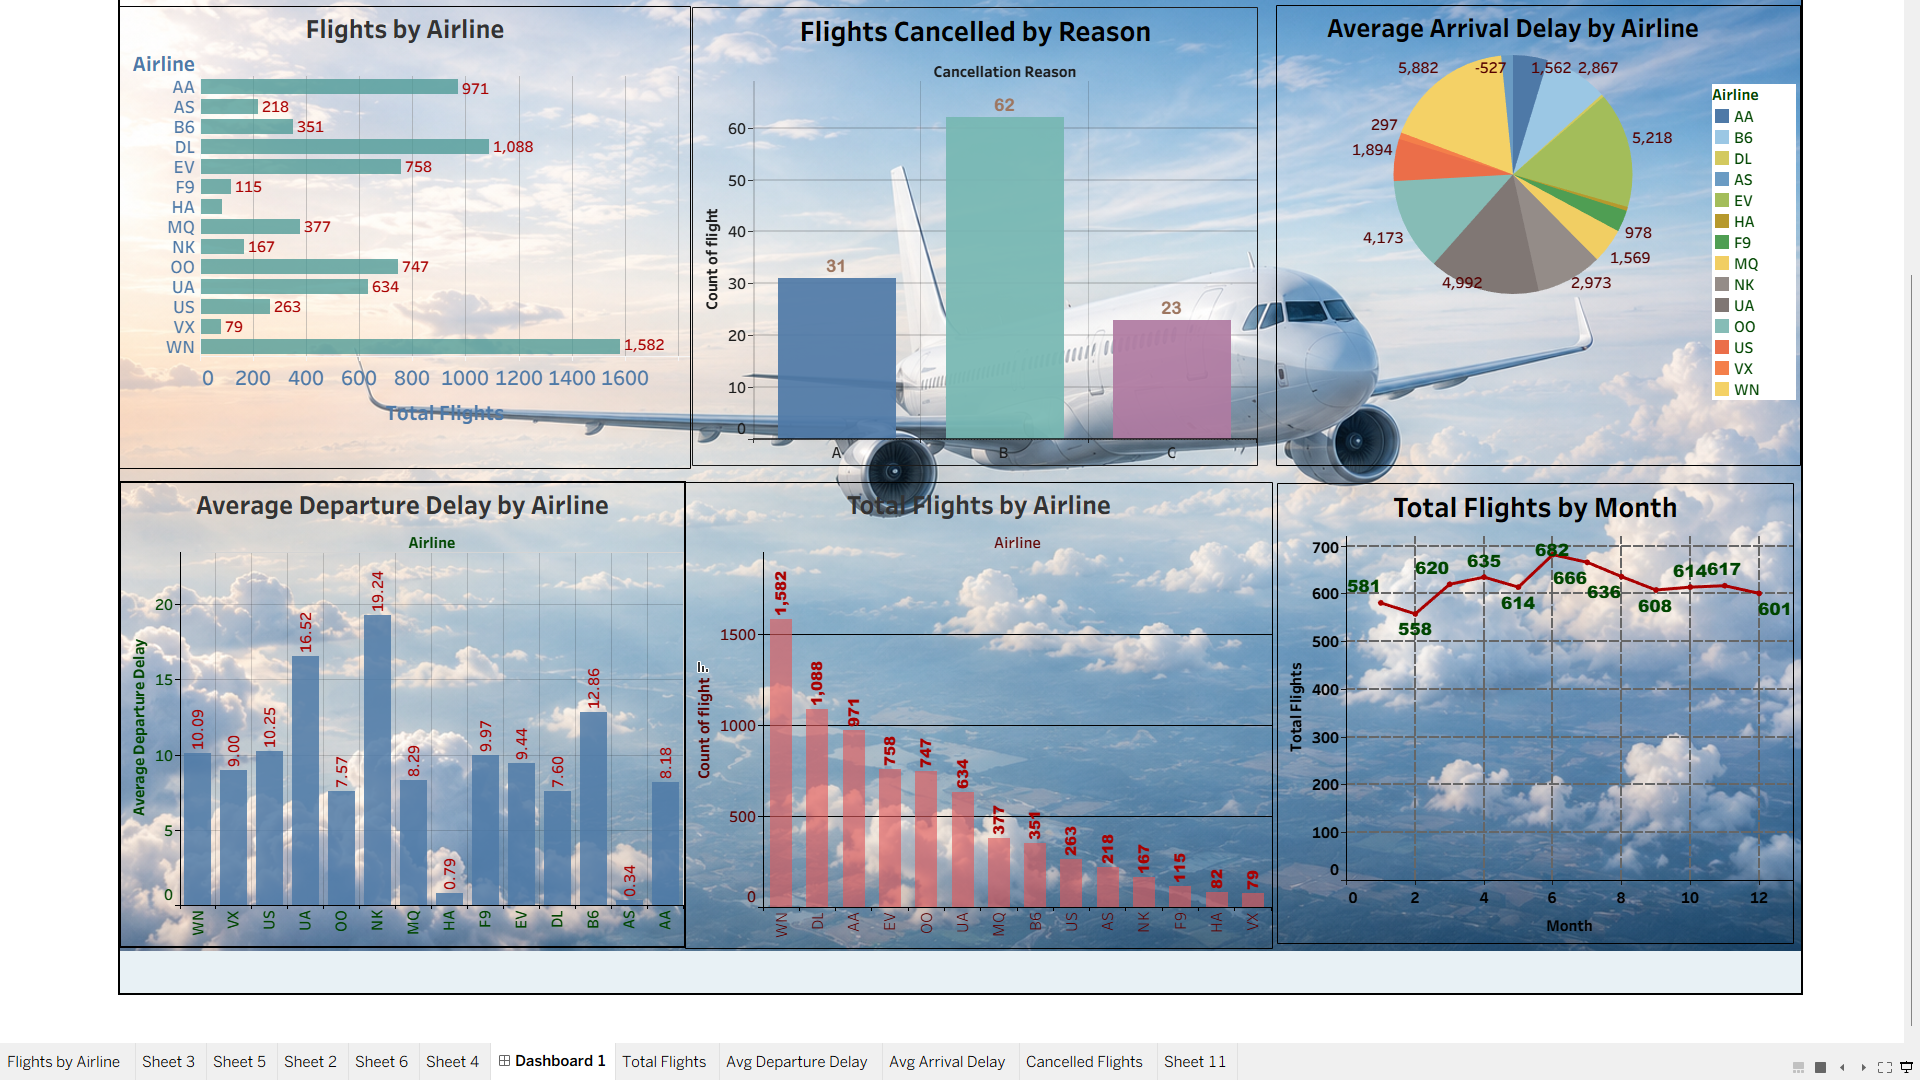

This screenshot's page, from the dashboard's own definition file:
{"tool":"tableau","page":{"name":"Dashboard 1","canvas":[1700,1400],"ordinal":0},"visuals":[{"type":"title","box":[8,8,1684,137]},{"type":"worksheet","title":"Total Flights","mark":"Automatic","box":[60,143,284,125]},{"type":"image","param":"C:/Users/shviy/Downloads/ChatGPT Image Jul 9, 2026, 11_58_31 AM.png","box":[17,144,1685,1208]},{"type":"worksheet","title":"Avg Departure Delay","mark":"Automatic","box":[440,146,288,121]},{"type":"worksheet","title":"Cancelled Flights","mark":"Automatic","box":[1220,146,300,117]},{"type":"worksheet","title":"Avg Arrival Delay","mark":"Automatic","box":[825,148,301,122]},{"type":"filter","title":"Sheet 3","param":"[federated.0dv0fwe0u8gxxe17o7z9i1h1b0uf].[usr:Calculation_2194096414449664:qk]","box":[1223,271,285,83]},{"type":"filter","title":"Flights by Airline","param":"[federated.0dv0fwe0u8gxxe17o7z9i1h1b0uf].[none:AIRLINE:nk]","box":[61,273,285,82]},{"type":"filter","title":"Sheet 4","param":"[federated.0dv0fwe0u8gxxe17o7z9i1h1b0uf].[none:CANCELLATION_REASON:nk]","box":[441,276,280,81]},{"type":"filter","title":"Sheet 3","param":"[federated.0dv0fwe0u8gxxe17o7z9i1h1b0uf].[none:MONTH:qk]","box":[827,276,294,76]},{"type":"worksheet","title":"Sheet 5","mark":"Pie","box":[1175,362,525,461]},{"type":"worksheet","title":"Flights by Airline","mark":"Automatic","rows":["AIRLINE"],"cols":["Calculation_2194096414449664"],"box":[18.1,363.1,572.3,463.4]},{"type":"worksheet","title":"Sheet 4","mark":"Bar","rows":["flight_98779ECC5A1643F4B8122E55393C489B"],"cols":["CANCELLATION_REASON"],"box":[591,364,566,459]},{"type":"legend","title":"Sheet 5","param":"[federated.0dv0fwe0u8gxxe17o7z9i1h1b0uf].[none:AIRLINE:nk]","box":[1611,441,84,316]},{"type":"worksheet","title":"Sheet 2","mark":"Automatic","rows":["Calculation_2194096415109121"],"cols":["AIRLINE"],"box":[18,838,567,467]},{"type":"worksheet","title":"Sheet 6","mark":"Automatic","rows":["flight_98779ECC5A1643F4B8122E55393C489B"],"cols":["AIRLINE"],"box":[584,839,588,467]},{"type":"worksheet","title":"Sheet 3","mark":"Line","rows":["Calculation_2194096414449664"],"cols":["MONTH"],"box":[1176,840,517,461]}]}

Visuals, with their boxes on the page's 1700x1400 design canvas (x1, y1, x2, y2). These are canvas units, not pixel positions in the 1920x1080 screenshot, which may show the page scaled, cropped or inside an application window:
title: <box>8,8,1692,145</box>
"Total Flights" worksheet: <box>60,143,344,268</box>
image: <box>17,144,1702,1352</box>
"Avg Departure Delay" worksheet: <box>440,146,728,267</box>
"Cancelled Flights" worksheet: <box>1220,146,1520,263</box>
"Avg Arrival Delay" worksheet: <box>825,148,1126,270</box>
"Sheet 3" filter: <box>1223,271,1508,354</box>
"Flights by Airline" filter: <box>61,273,346,355</box>
"Sheet 4" filter: <box>441,276,721,357</box>
"Sheet 3" filter: <box>827,276,1121,352</box>
"Sheet 5" worksheet (Pie marks): <box>1175,362,1700,823</box>
"Flights by Airline" worksheet: <box>18,363,590,826</box>
"Sheet 4" worksheet (Bar marks): <box>591,364,1157,823</box>
"Sheet 5" legend: <box>1611,441,1695,757</box>
"Sheet 2" worksheet: <box>18,838,585,1305</box>
"Sheet 6" worksheet: <box>584,839,1172,1306</box>
"Sheet 3" worksheet (Line marks): <box>1176,840,1693,1301</box>
